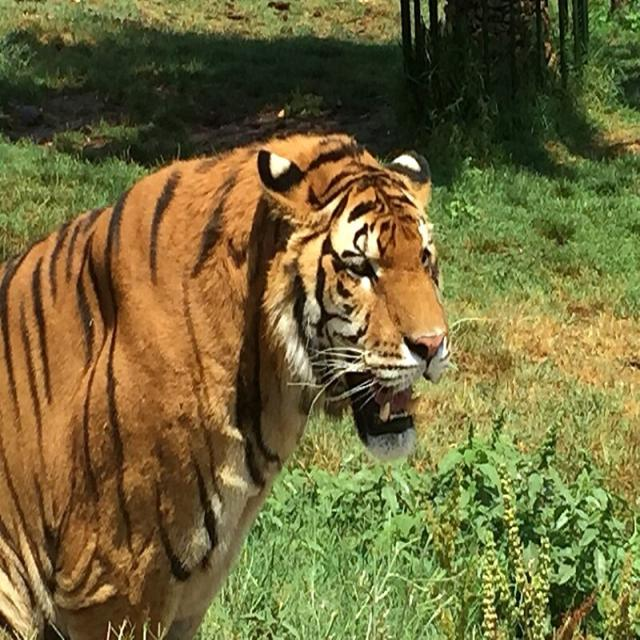Tiger: (0, 128, 448, 634)
